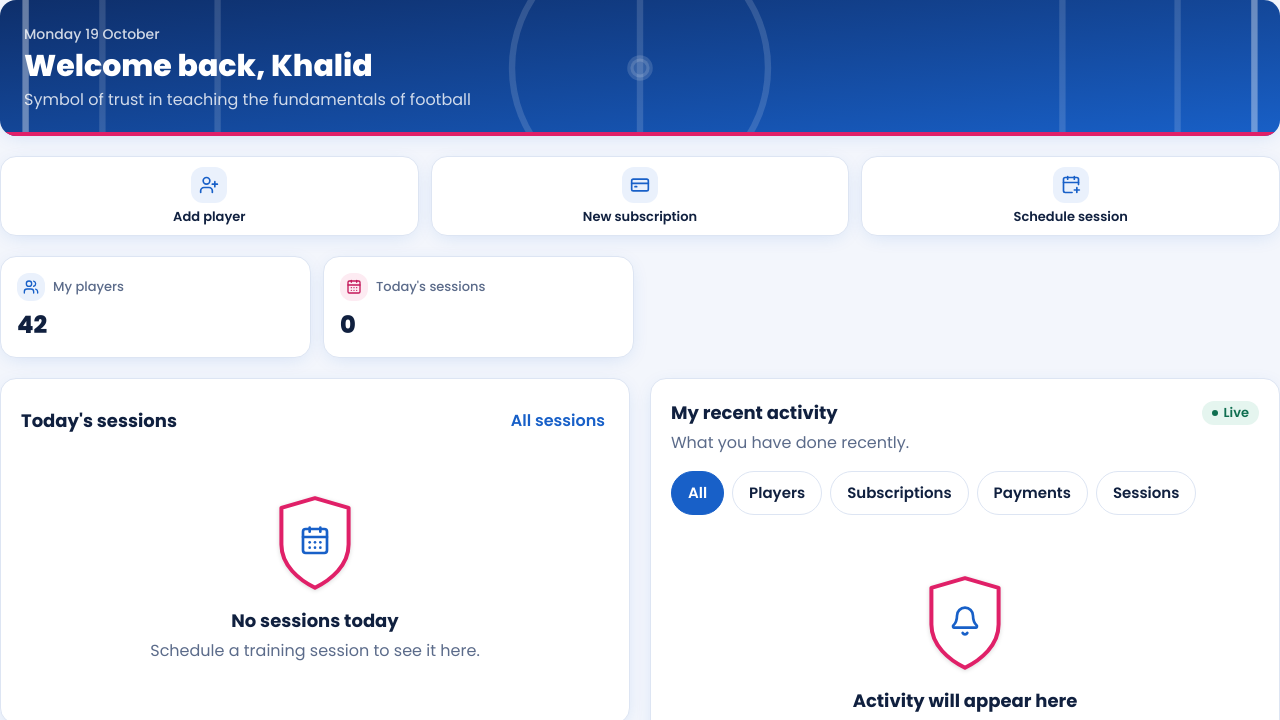
Test case: HomePage › quick actions › opens the schedule form in place
Click the button "Schedule session" at (1071, 196), box [861,156,1279,236]
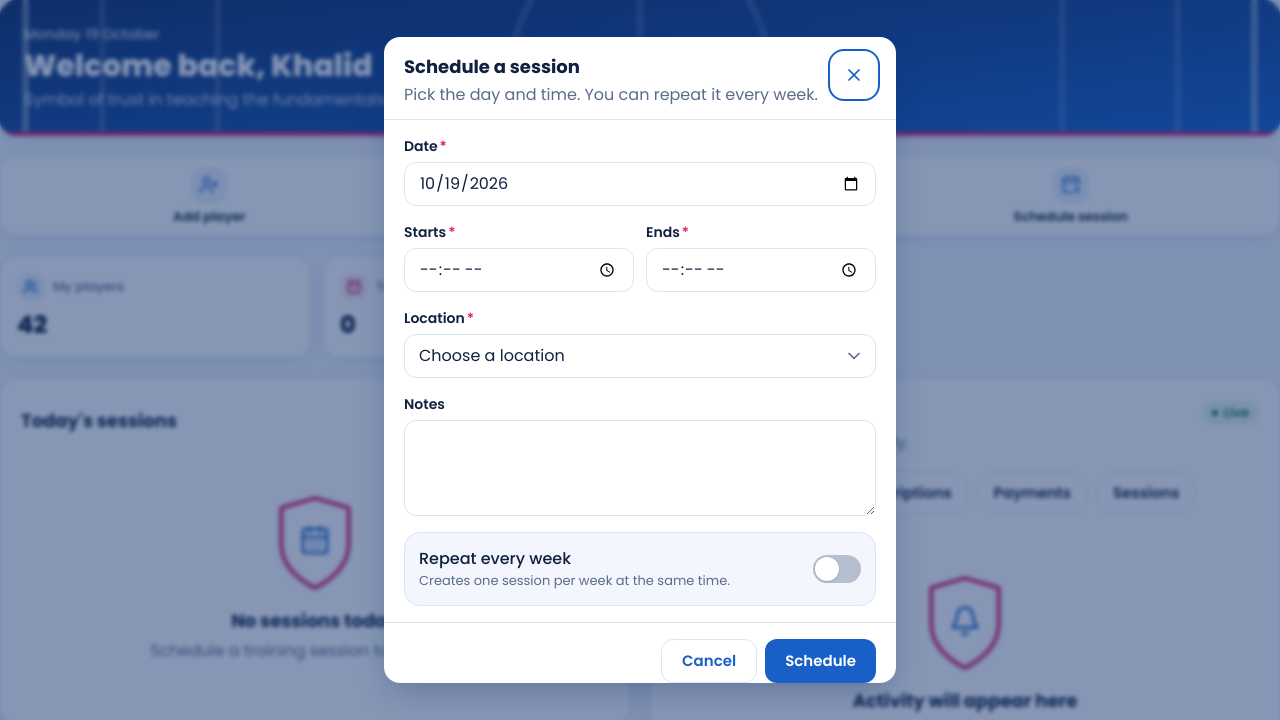
Check: the dialog "Schedule a session" is shown, box [384,37,896,683]
